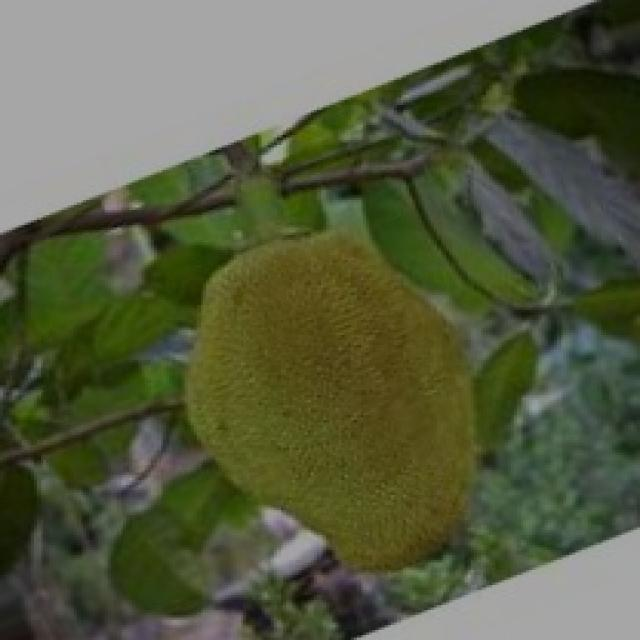Fruit: (157, 205, 520, 610)
